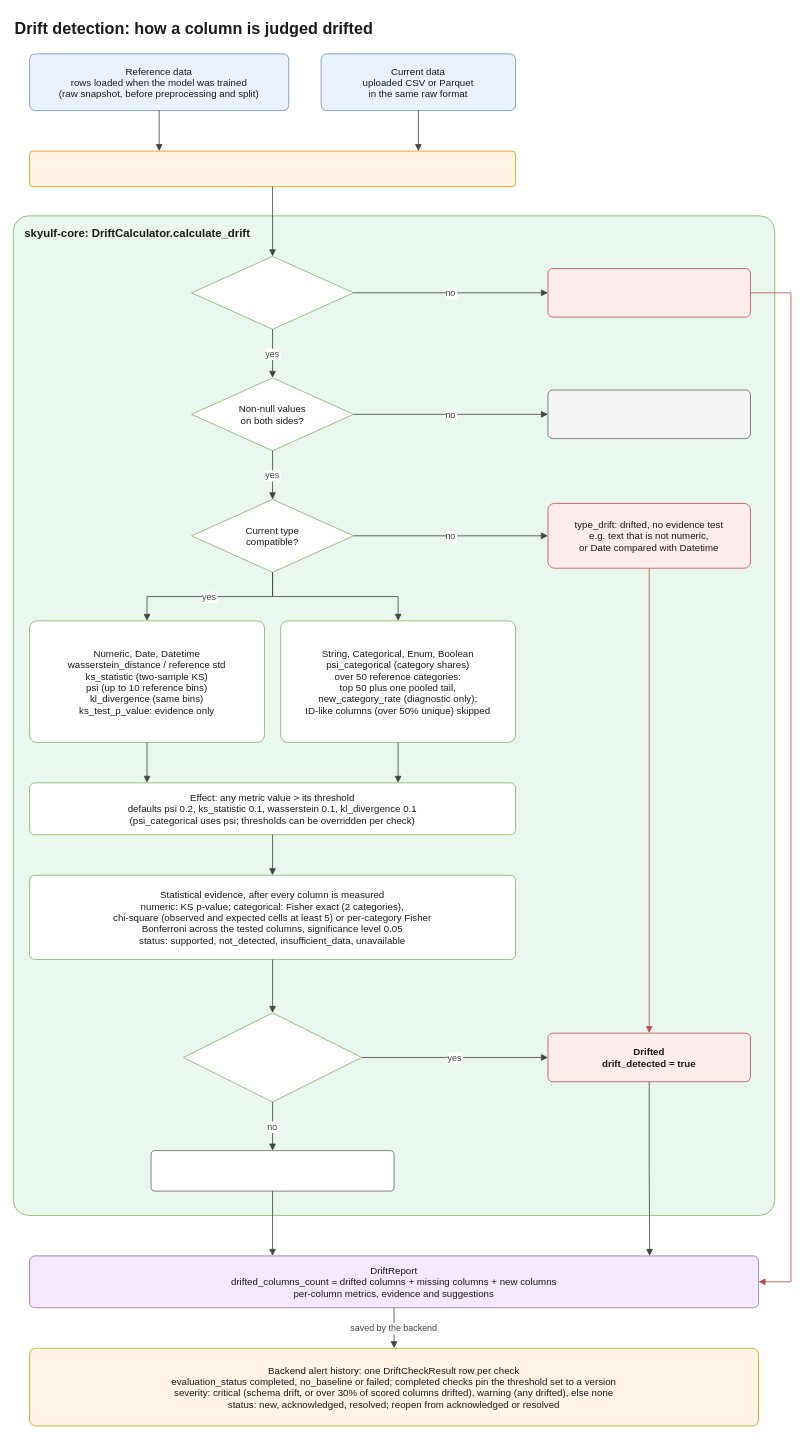
This 804x1439 diagram has some shape labels left out. The shapes that lost their labels are listed below. From the top down, each one's centre as x and y in pixels, then its label:
the point at 272,168: Backend: drop the target and explicitly dropped columns on both sides
the point at 272,292: Column in both datasets?
the point at 648,292: Schema drift missing_columns, new_columns
the point at 648,414: Not scored (no column_drifts entry)
the point at 272,1057: Effect AND evidence supported?
the point at 272,1170: Not drifted evidence reason, if any, is the suggestion
